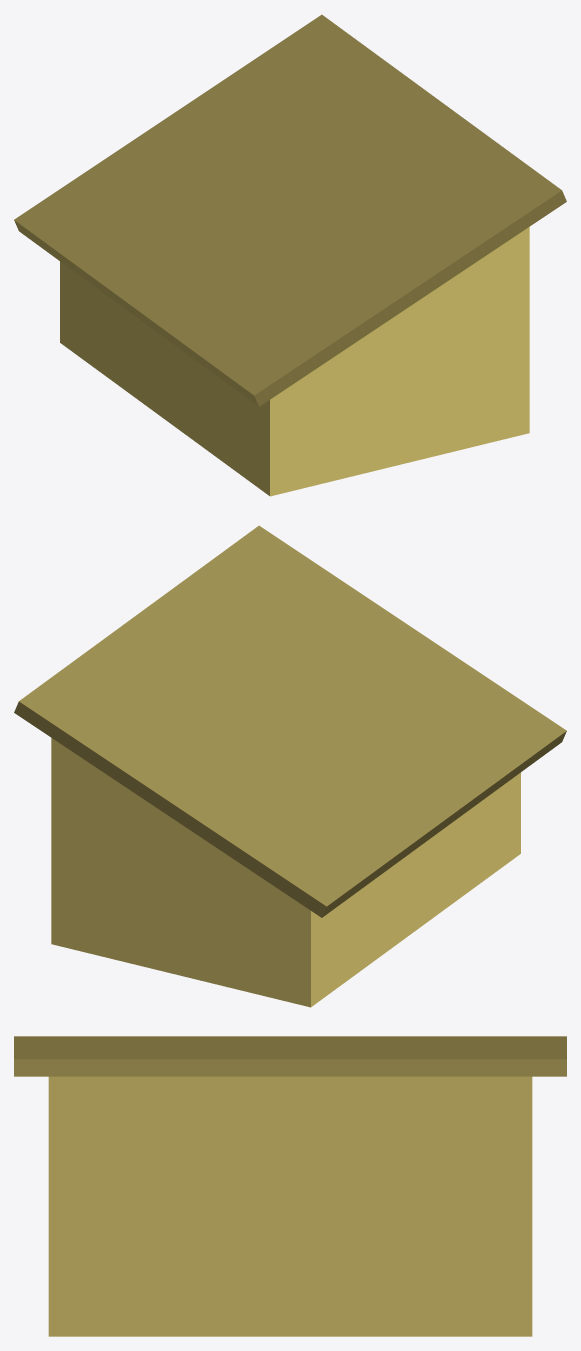
File: result.glb
3 views of the same model, one above another, from view 1: azimuth 30°, elevation 25°; view 2: azimuth 150°, elevation 25°; view 3: azimuth 270°, elevation 25° (orthographic). The views are drawn at different scales.
Parts seen in each view (by area): view 1: 4e59656e-5f7e-4206-aafe-8bceabcfaaf0__undefined, 741caec6-24c0-4dfe-9809-c8e5dc1ba41d__undefined; view 2: 4e59656e-5f7e-4206-aafe-8bceabcfaaf0__undefined, 741caec6-24c0-4dfe-9809-c8e5dc1ba41d__undefined; view 3: 741caec6-24c0-4dfe-9809-c8e5dc1ba41d__undefined, 4e59656e-5f7e-4206-aafe-8bceabcfaaf0__undefined.
Part boxes in pixels (x1,y1,x2,y2): 4e59656e-5f7e-4206-aafe-8bceabcfaaf0__undefined: (14,14,566,406); 741caec6-24c0-4dfe-9809-c8e5dc1ba41d__undefined: (60,227,529,496); 4e59656e-5f7e-4206-aafe-8bceabcfaaf0__undefined: (14,525,566,917); 741caec6-24c0-4dfe-9809-c8e5dc1ba41d__undefined: (51,738,520,1007); 741caec6-24c0-4dfe-9809-c8e5dc1ba41d__undefined: (48,1076,532,1336); 4e59656e-5f7e-4206-aafe-8bceabcfaaf0__undefined: (14,1036,566,1076).
Size of the model in its own units: 601 by 459 by 800.
